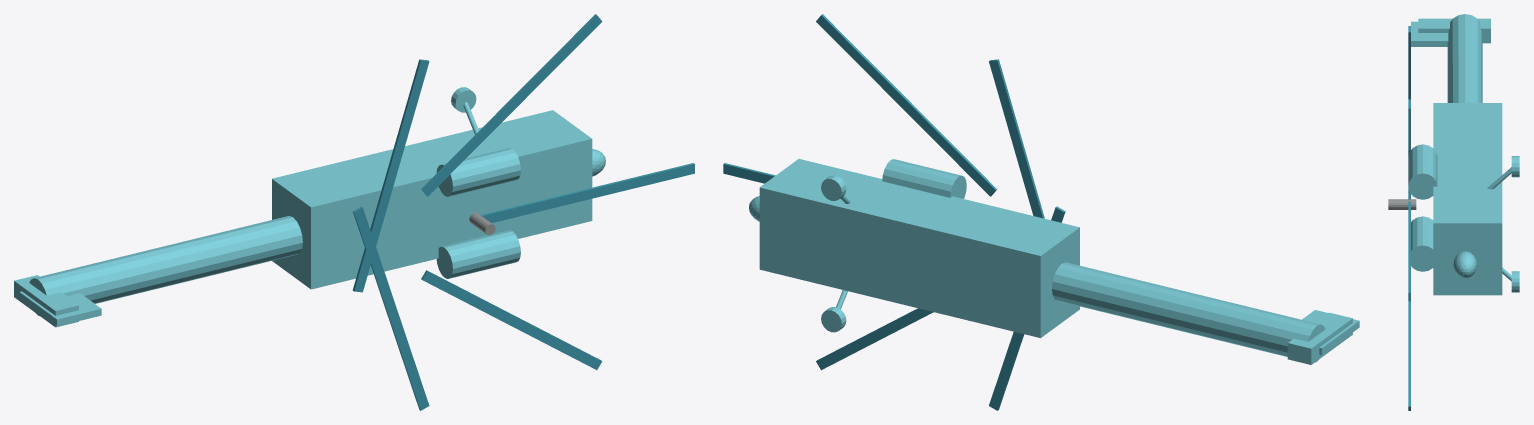
File: uh169b_hologram.glb
3 views of the same model, side by side, from view 1: azimuth 30°, elevation 25°; view 2: azimuth 150°, elevation 25°; view 3: azimuth 270°, elevation 25° (orthographic). The views are drawn at different scales.
Parts seen in each view (by area): view 1: world; view 2: world; view 3: world.
Boxes of the visible parts, x1,y1,x2,y2 form: world: [14, 14, 694, 410]; world: [723, 14, 1359, 410]; world: [1388, 14, 1519, 410].
Bounding box in the file's own units: 4.87 × 2.6 × 0.99.
